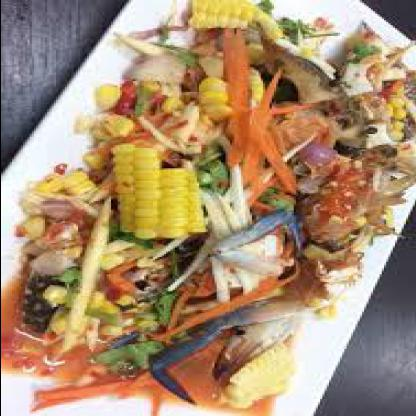Papaya Salad: (2, 0, 414, 415)
